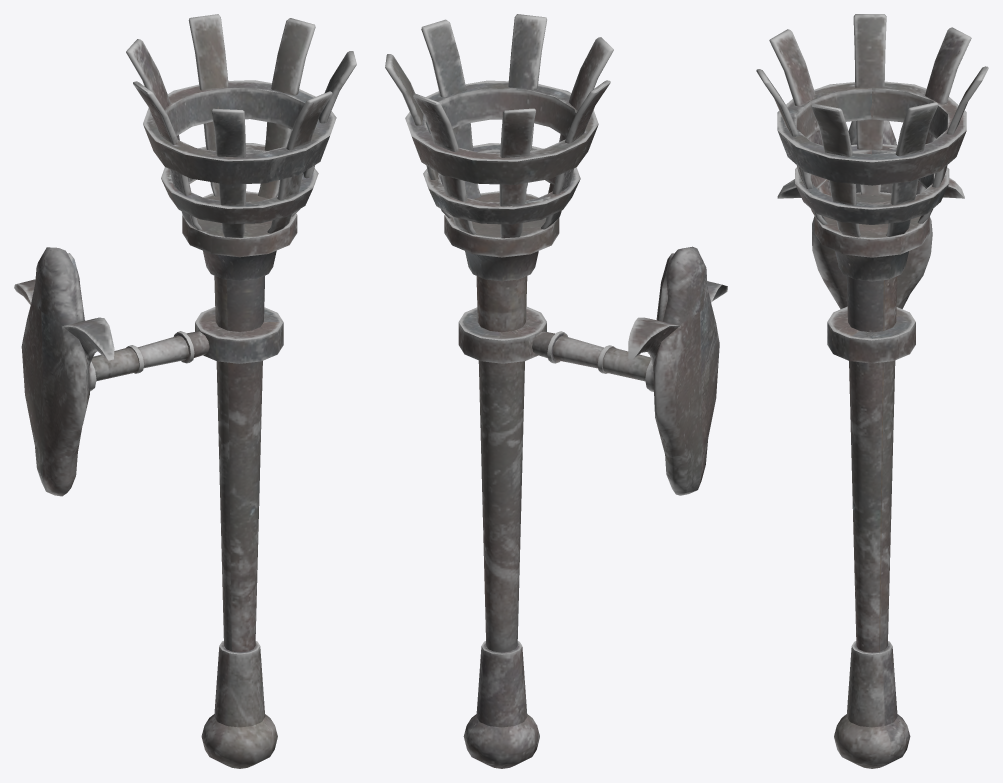
The model's file is SM_torch.fbx.
3 renders of one model, left to right at view 1: azimuth 30°, elevation 25°; view 2: azimuth 150°, elevation 25°; view 3: azimuth 270°, elevation 25°, orthographic.
Parts seen in each view (by area): view 1: SM_torch_LOD0; view 2: SM_torch_LOD0; view 3: SM_torch_LOD0.
Boxes of the visible parts, x1,y1,x2,y2 form: SM_torch_LOD0: (14, 14, 356, 768); SM_torch_LOD0: (385, 14, 727, 768); SM_torch_LOD0: (756, 14, 988, 768).
Bounding box in the file's own units: 68.07 × 46.44 × 155.
